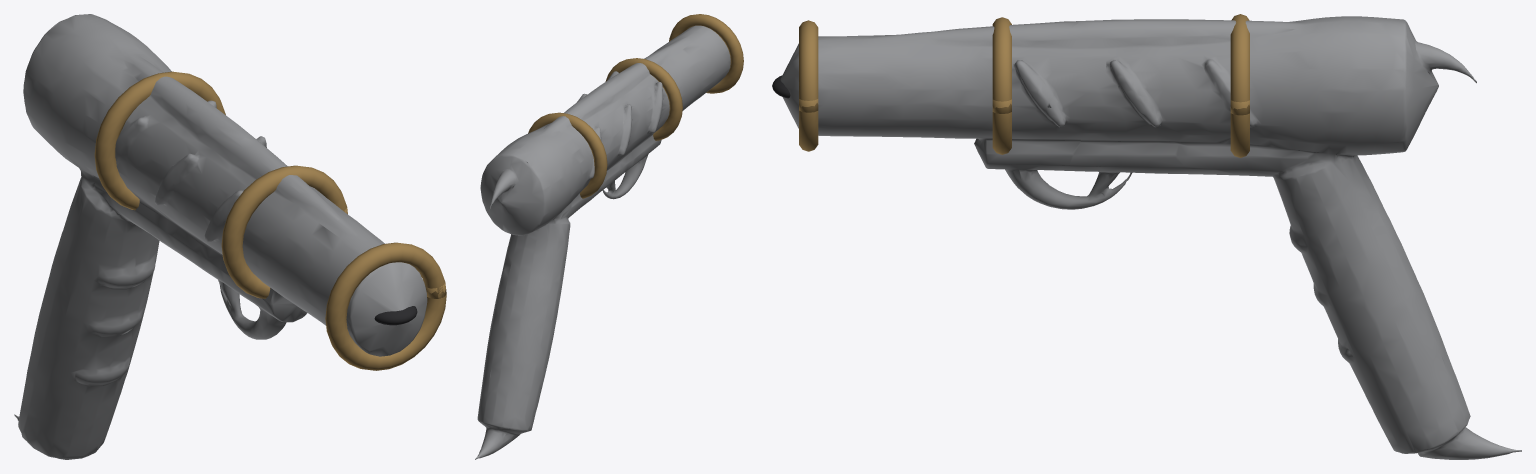
File: deadeye-pistol.glb
3 renders of one model, left to right at view 1: azimuth 30°, elevation 25°; view 2: azimuth 150°, elevation 25°; view 3: azimuth 270°, elevation 25°, orthographic. The views are drawn at different scales.
Visible parts, largest first — view 1: pistolbody, brass0, brass2, brass1, bore; view 2: pistolbody, brass0, brass2, brass1; view 3: pistolbody, brass1, brass2, brass0.
Part boxes in pixels (x1,y1,x2,y2): pistolbody: (14,14,427,459); brass0: (325,242,446,370); brass2: (221,165,347,298); brass1: (94,71,225,210); bore: (374,306,417,325); pistolbody: (475,25,730,459); brass0: (669,14,743,93); brass2: (605,58,682,140); brass1: (528,112,607,198); pistolbody: (780,16,1521,459); brass1: (1230,14,1249,157); brass2: (992,17,1011,154); brass0: (799,20,818,151).
Bounding box in the file's own units: 0.0454 × 0.1522 × 0.2361.
